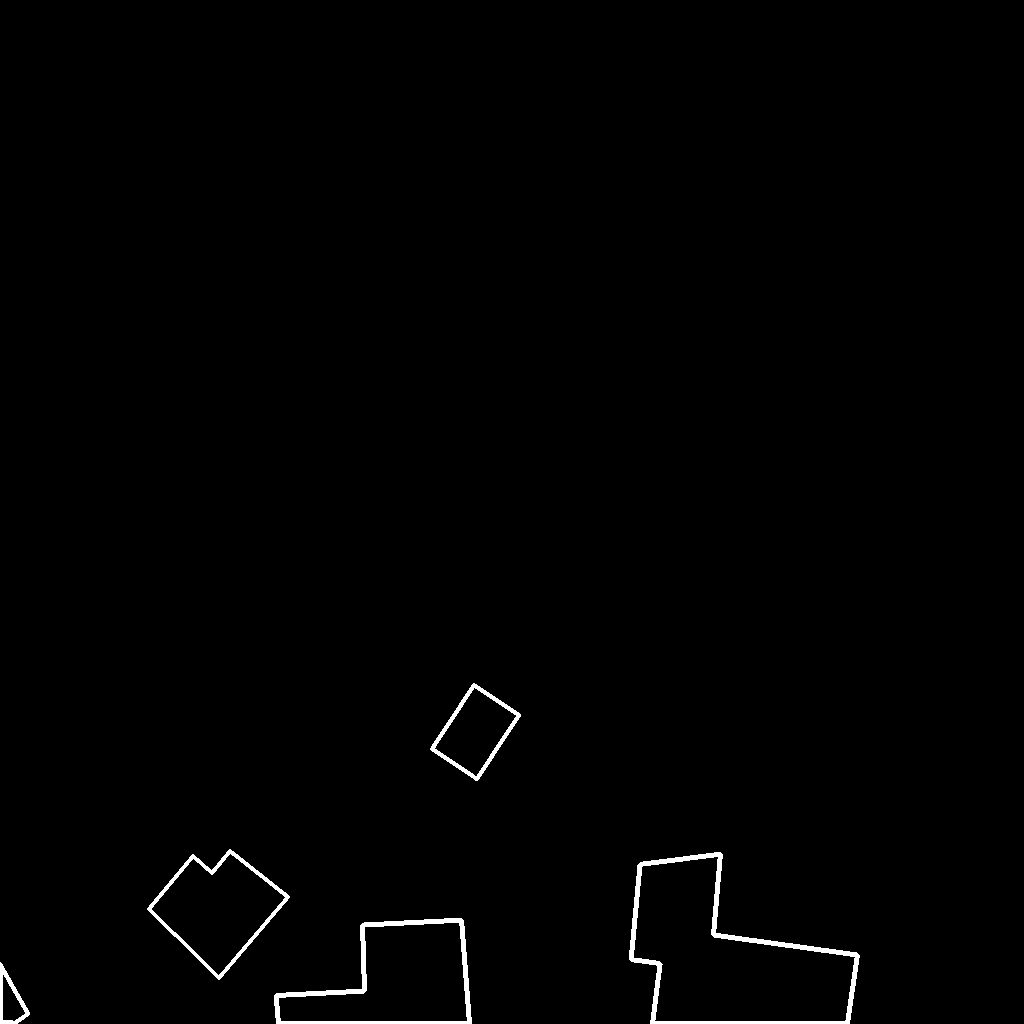building: (631, 854, 859, 1024), (276, 920, 471, 1024), (149, 851, 289, 979), (432, 685, 520, 780), (0, 964, 29, 1024)
